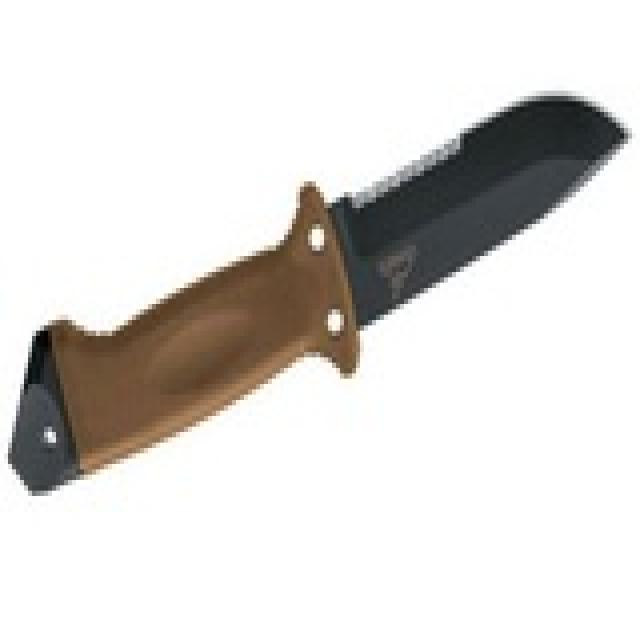Knife: (12, 78, 634, 511)
